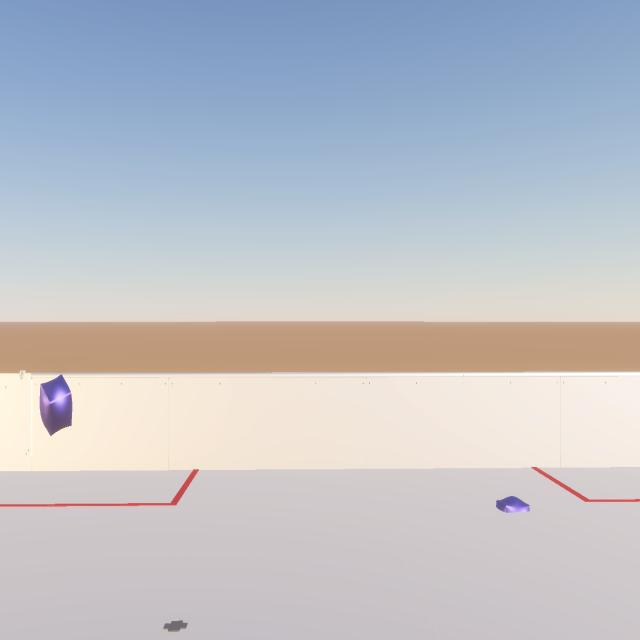frc_cube: (40, 375, 72, 436)
